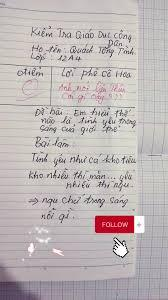text: (29, 25, 133, 45), (30, 150, 137, 169), (27, 193, 130, 210), (30, 43, 135, 59), (27, 167, 135, 181), (38, 115, 137, 130), (33, 107, 132, 119), (60, 66, 133, 81), (57, 80, 127, 95), (38, 124, 121, 136), (64, 179, 130, 193), (60, 92, 122, 105), (39, 207, 75, 225), (30, 52, 82, 63), (33, 136, 70, 149), (20, 77, 39, 98), (16, 66, 44, 78), (101, 220, 129, 229), (107, 39, 123, 48)
